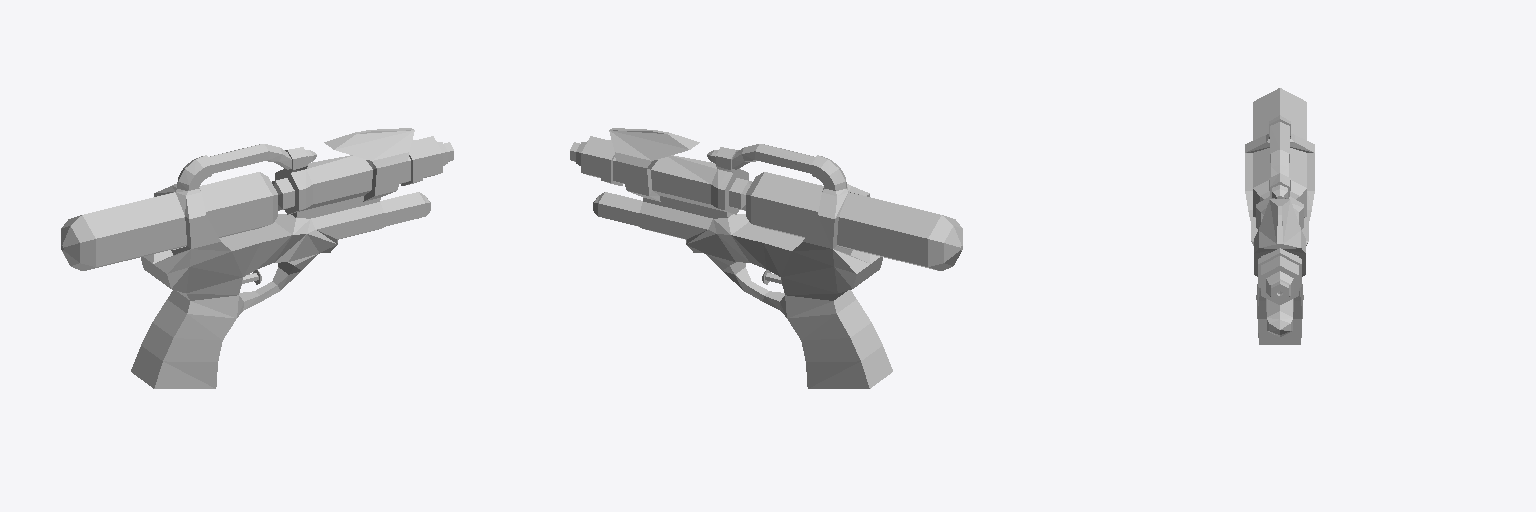
The model's file is waterGun.obj.
3 renders of one model, left to right at view 1: azimuth 30°, elevation 25°; view 2: azimuth 150°, elevation 25°; view 3: azimuth 270°, elevation 25°, orthographic.
Visible parts, largest first — view 1: WaterGun; view 2: WaterGun; view 3: WaterGun.
Boxes of the visible parts, <box> form: WaterGun: <box>61,128,453,388</box>; WaterGun: <box>570,128,962,388</box>; WaterGun: <box>1245,88,1314,344</box>.
Size of the model in its own units: 0.2517 by 0.1403 by 0.0398.